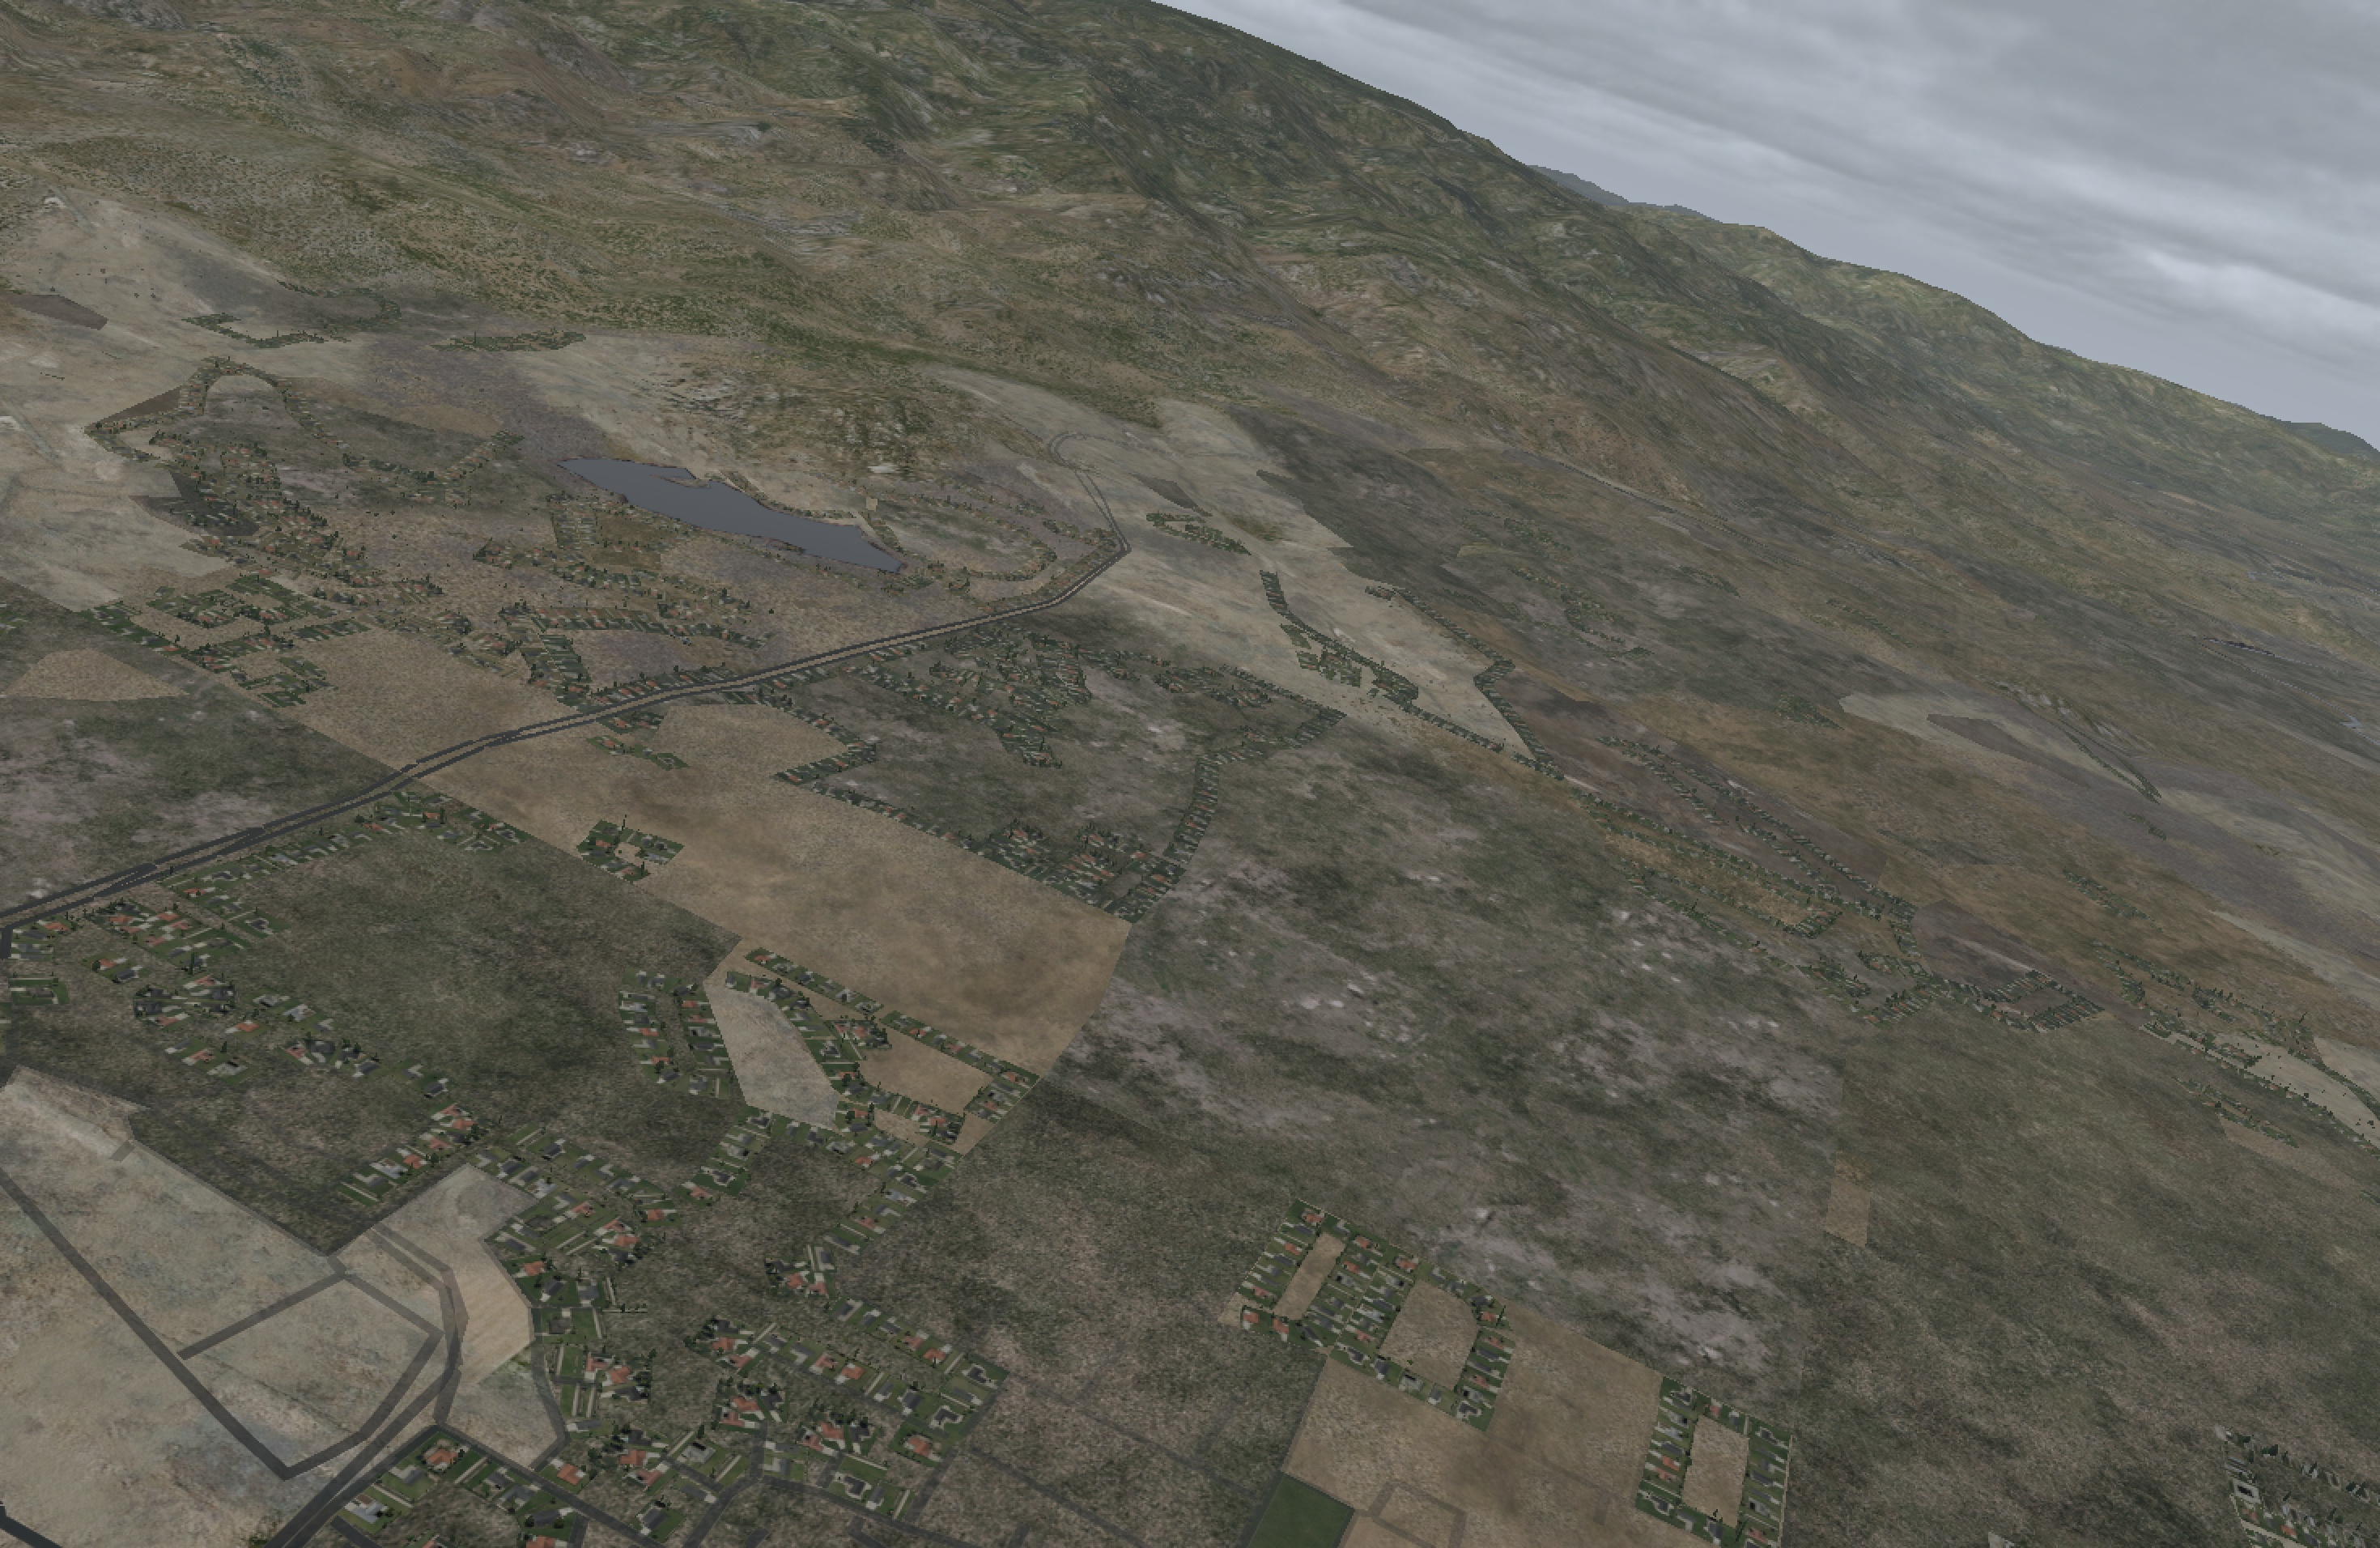aircraft: (673, 635, 699, 644)
